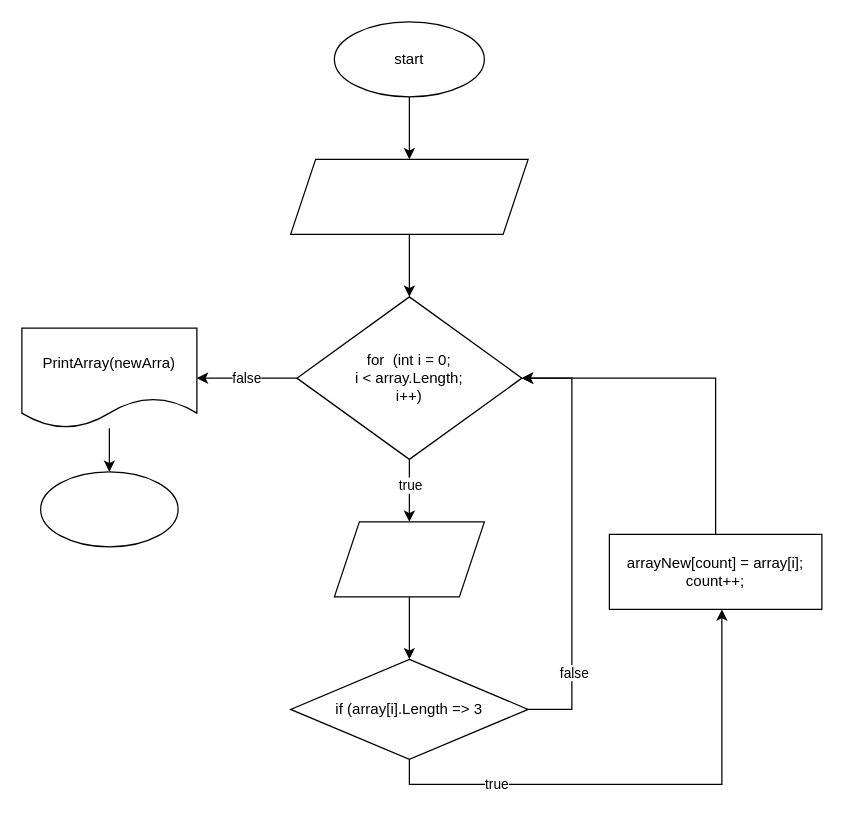
The diagram is 844 pixels wide and 816 high, and some of its shapes have lost their labels. Each missing label, with the centre of its shape:
count = 0;: [408,559]
end: [108,509]
string[ ] array; string[ ] arrayNew;: [408,196]
